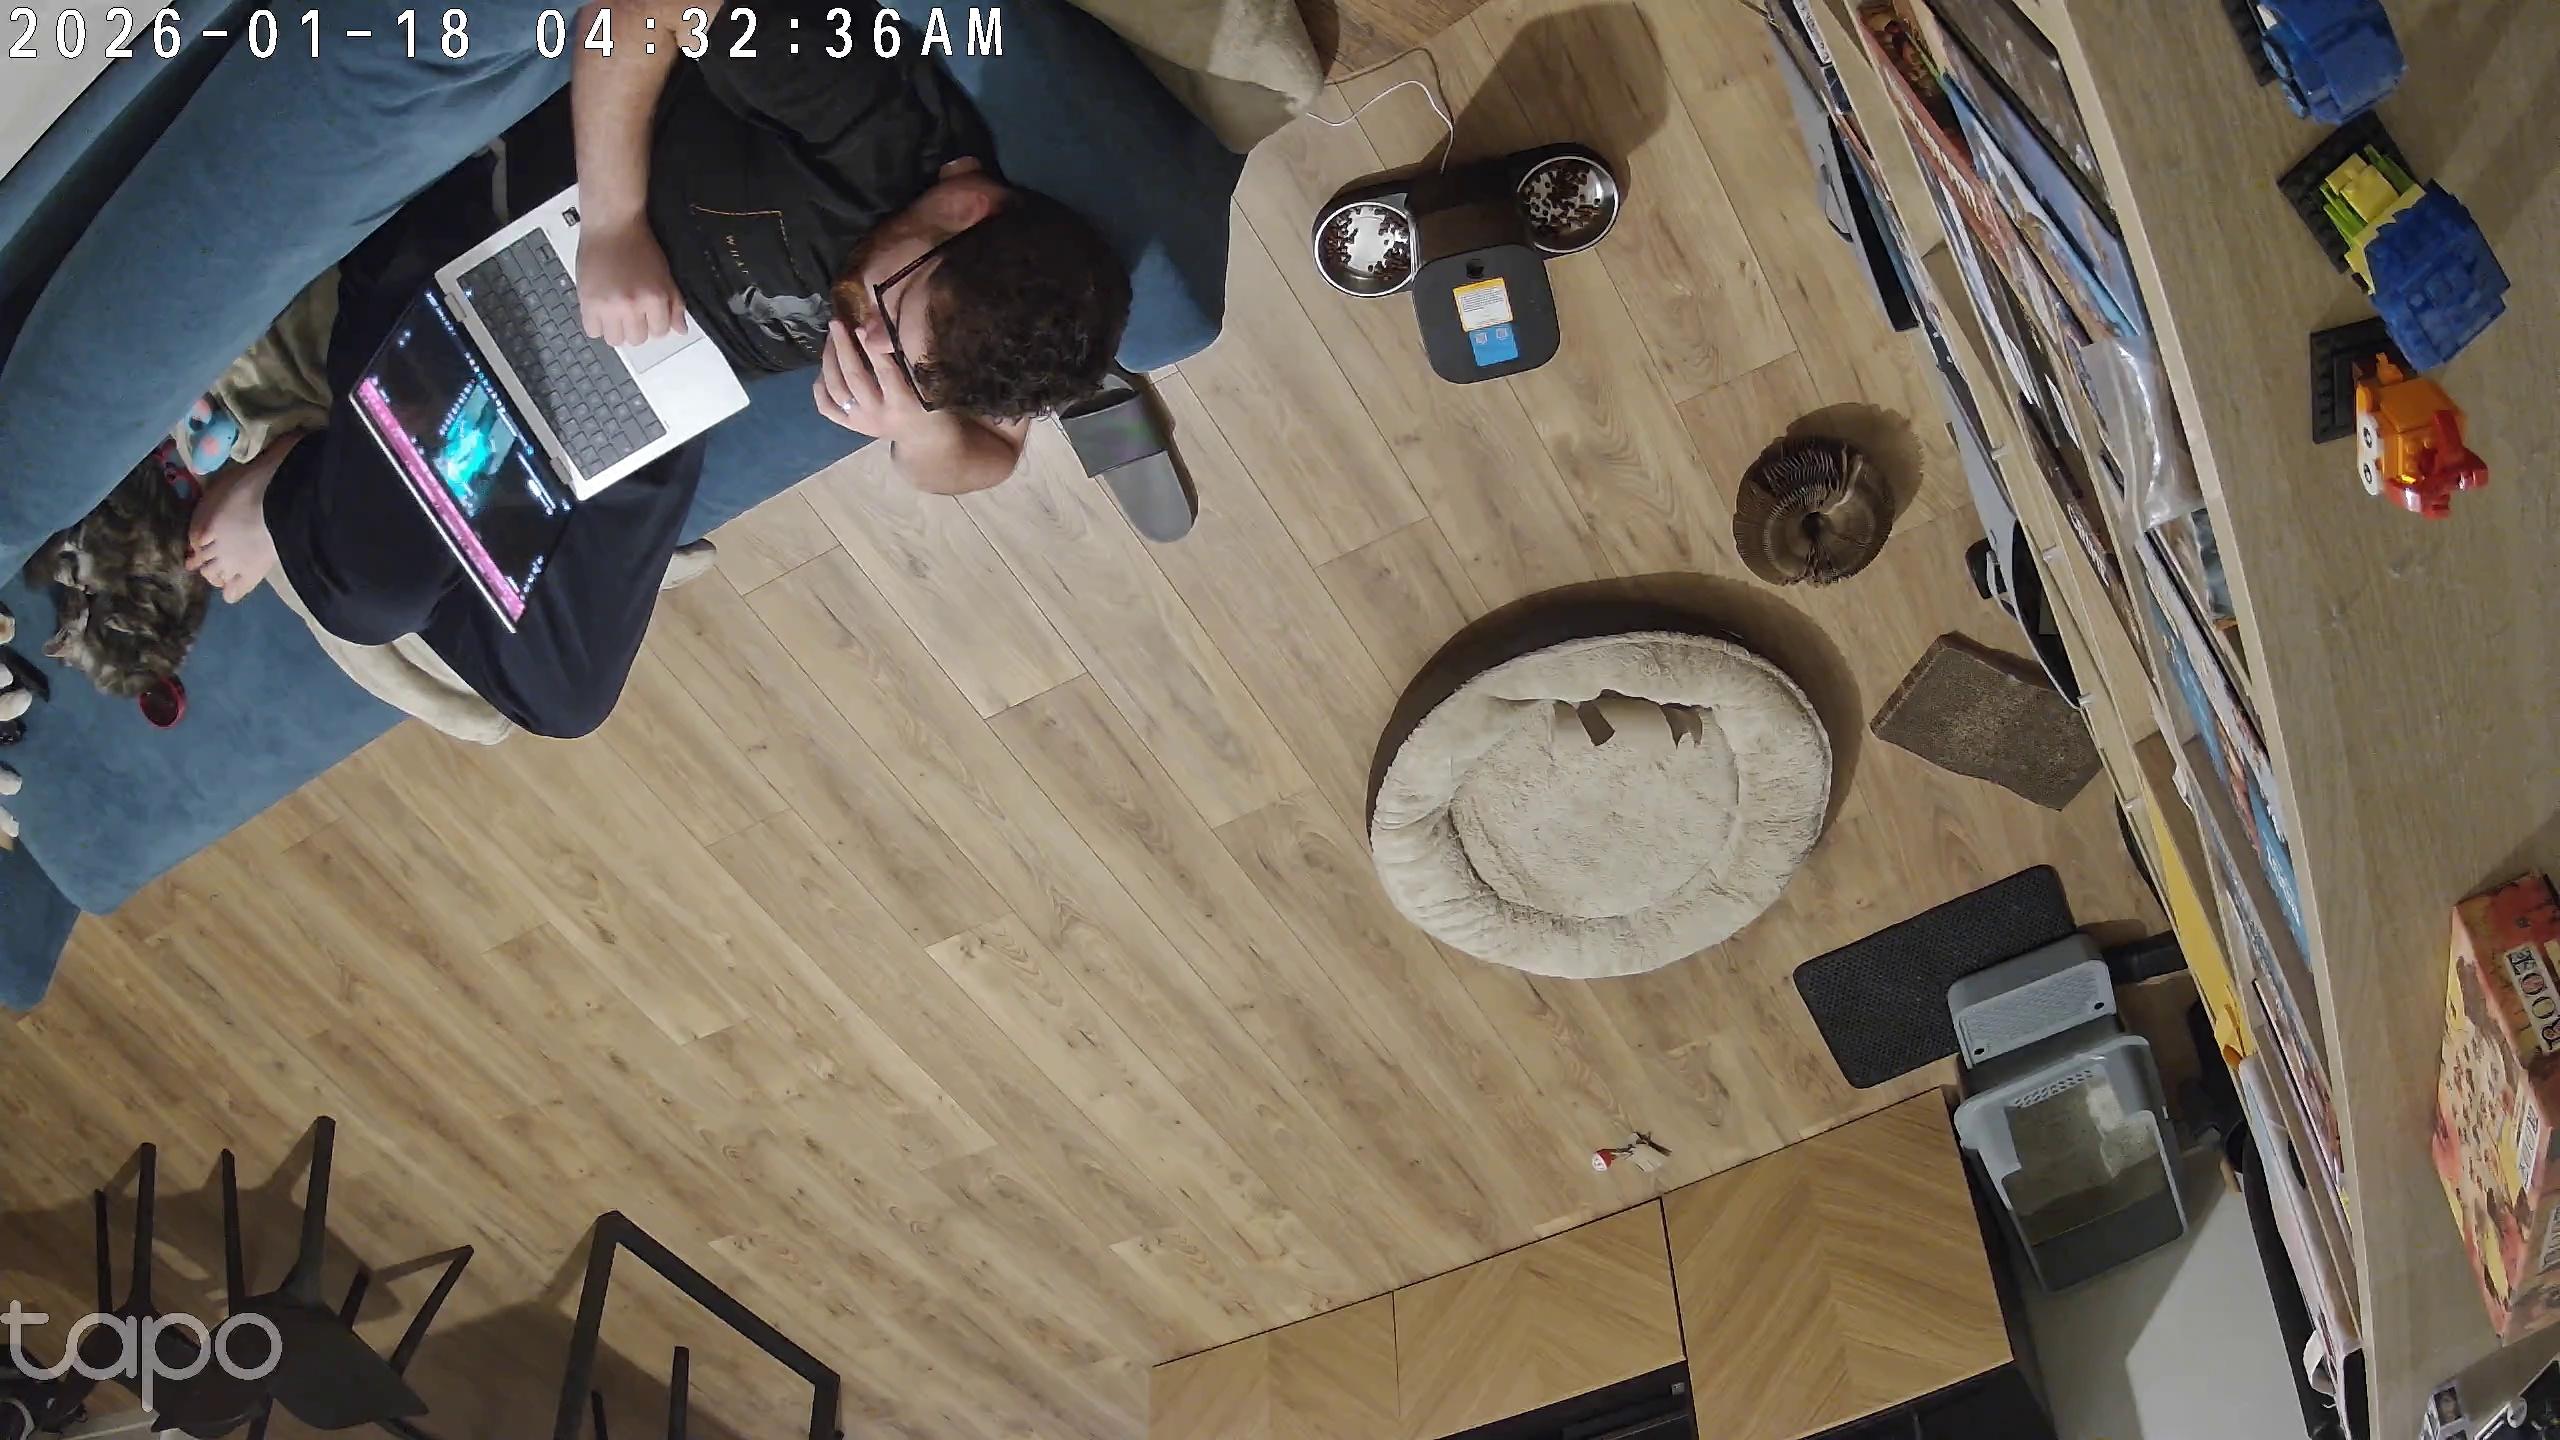Nala: (32, 440, 216, 709)
